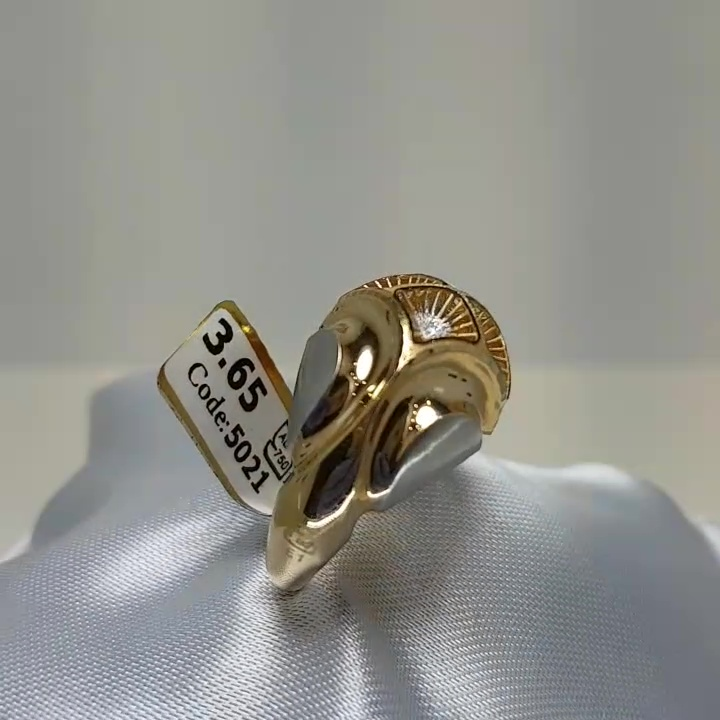Ring 2: (231, 256, 526, 602)
